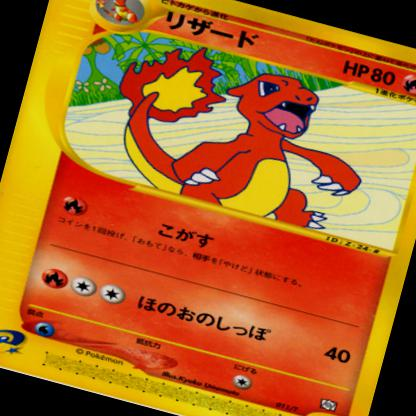Charmeleon: (99, 33, 387, 236)
